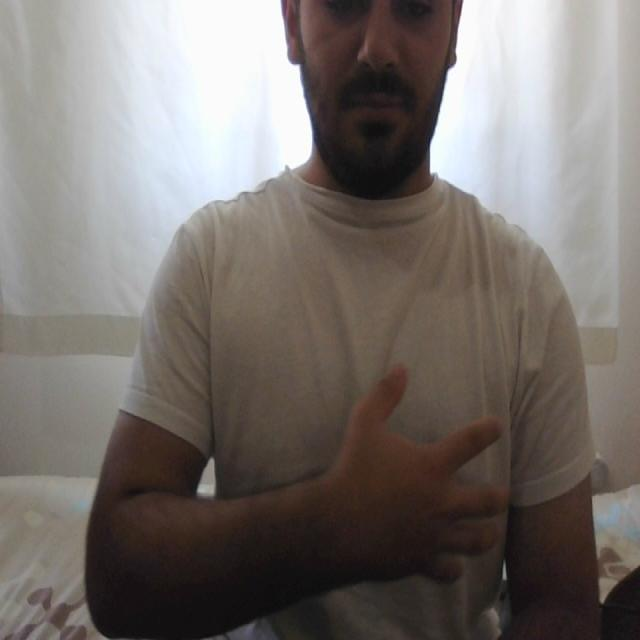Anne: (210, 353, 533, 588)
